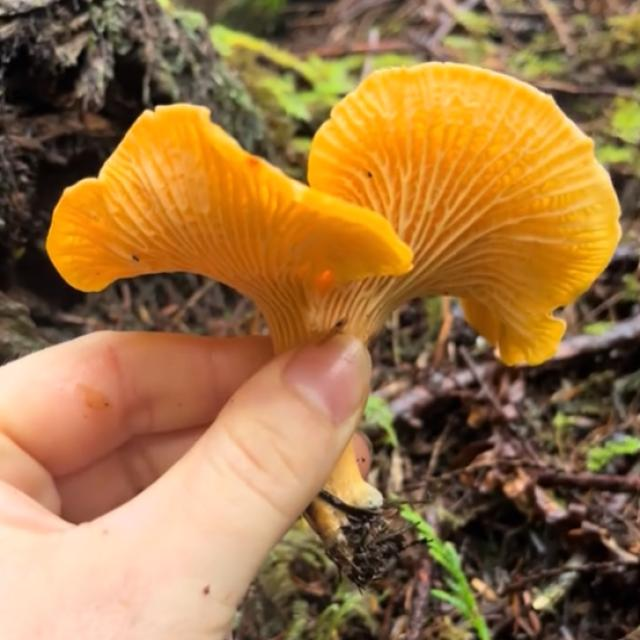chanterelle: (290, 62, 621, 366), (45, 104, 413, 356)
